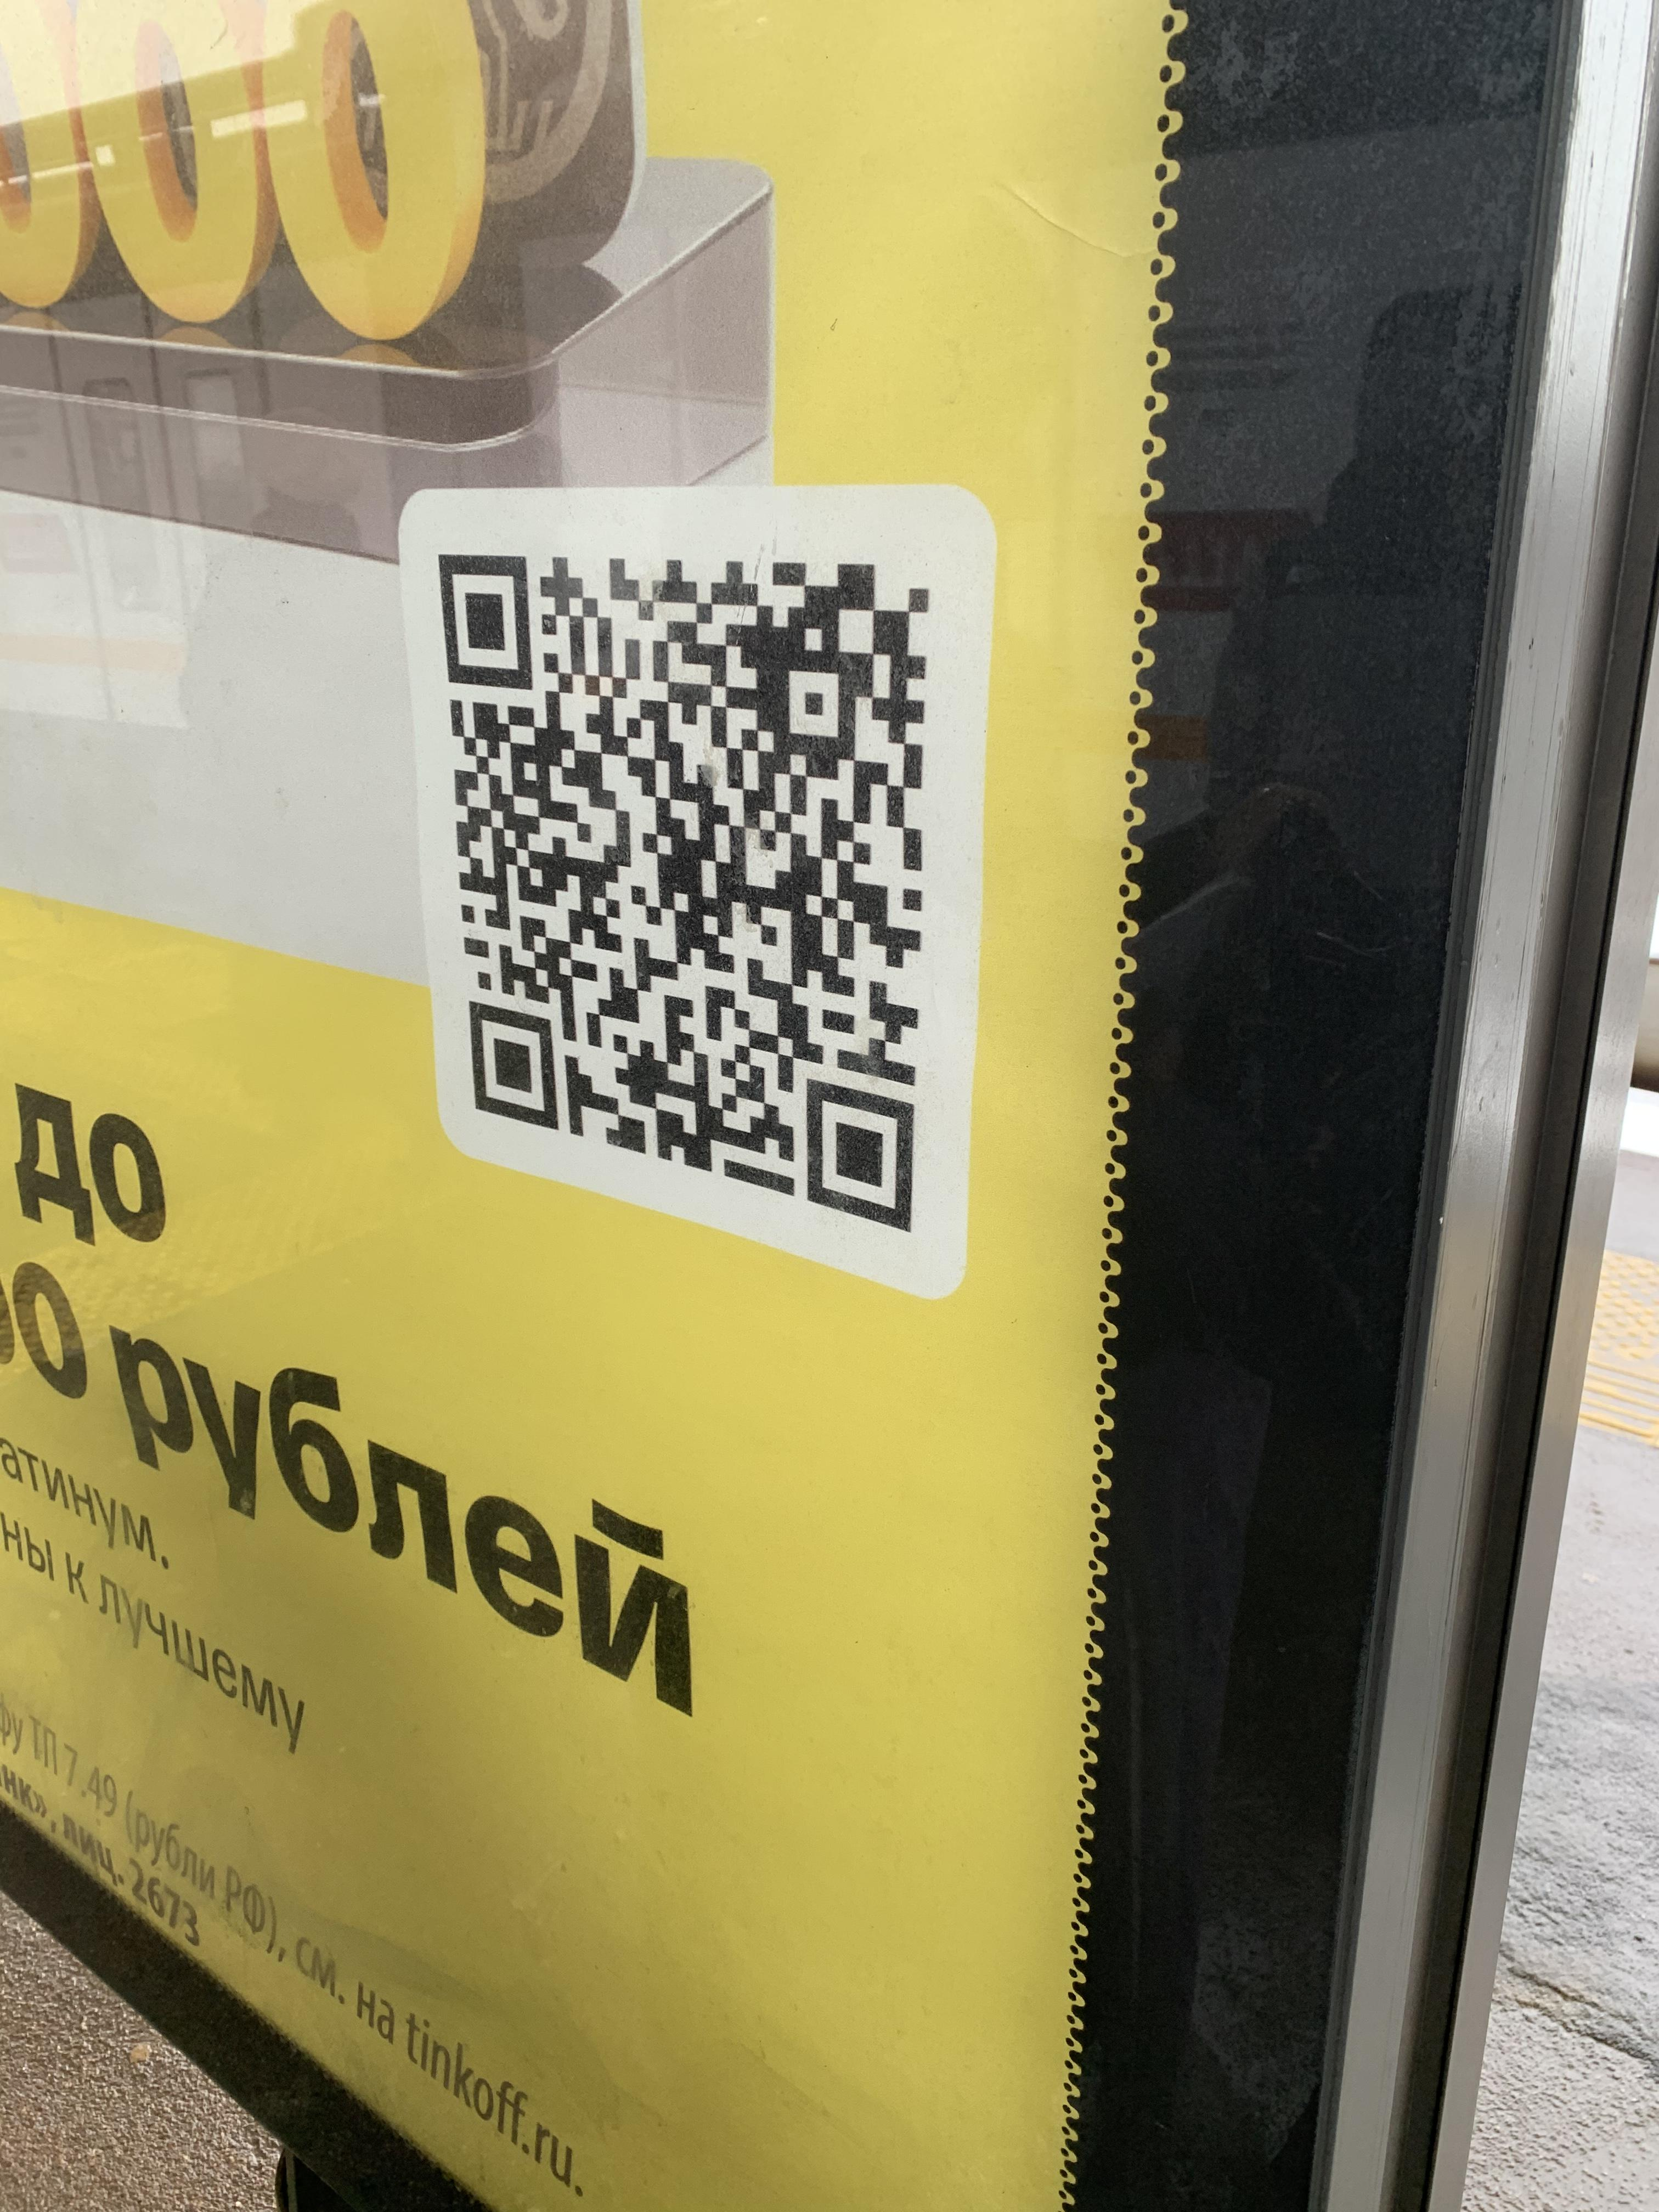qrcode: (434, 554, 934, 1231)
